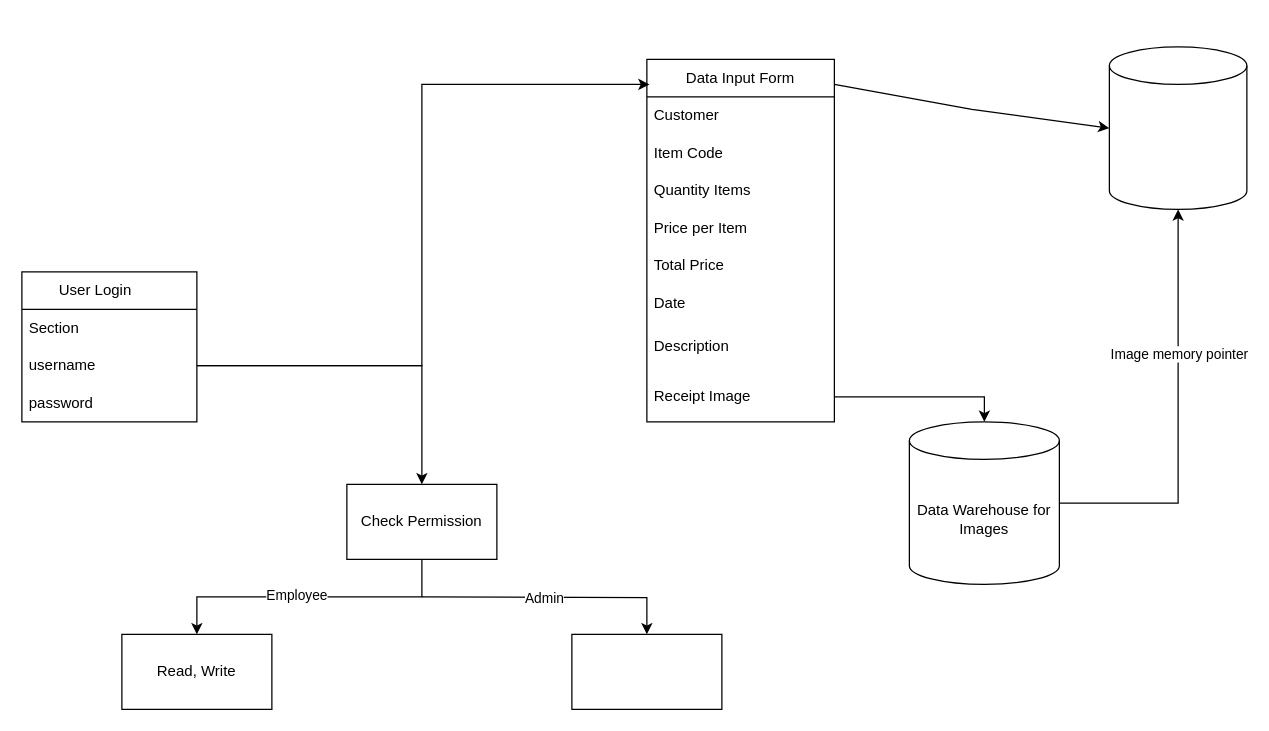
Image size: 1269x731. Some labels were removed from this diagram. The shapes that lost their labels are listed below. From the top down, each one's centre as x and y in pixels, then its label:
(1177,127): Items Database
(646,671): Read, Write, Update, Delete
